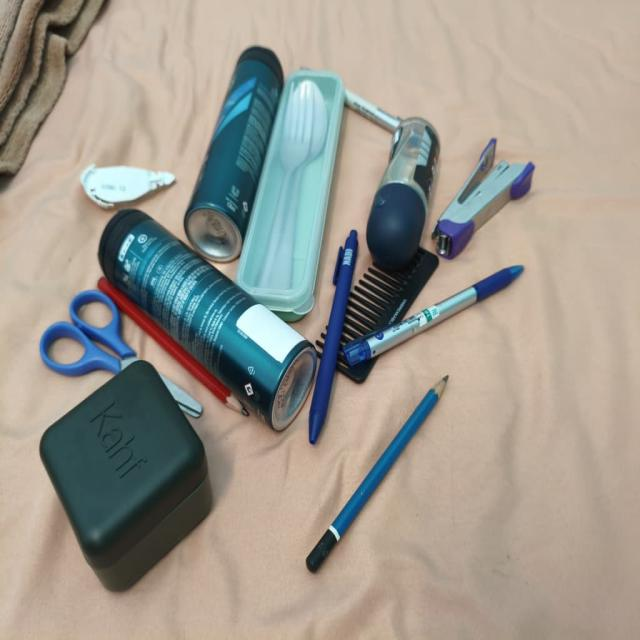pen: (345, 266, 522, 365), (309, 230, 357, 443), (345, 89, 401, 132)
pencil: (306, 375, 448, 572), (98, 278, 248, 414)
scissor: (40, 290, 138, 376), (160, 375, 201, 416)
stapler: (432, 138, 534, 258)
